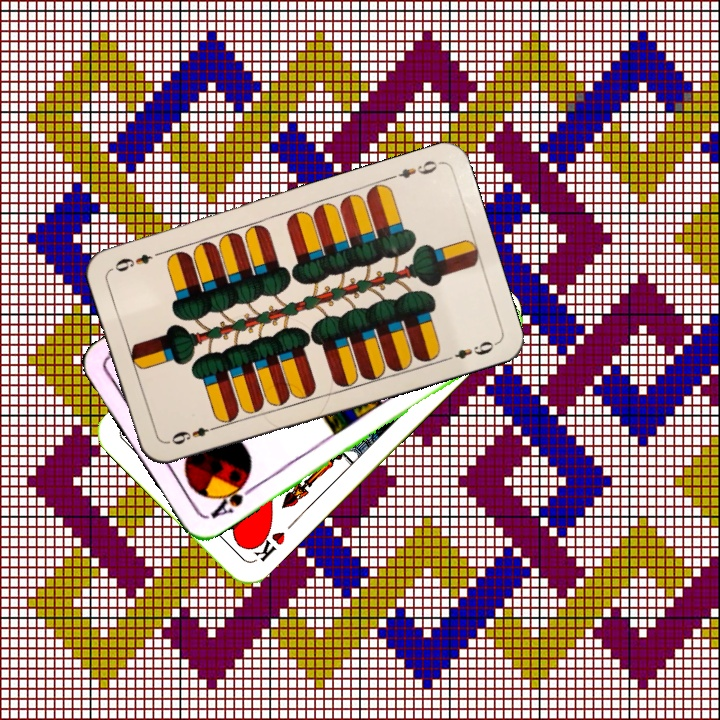E9: (163, 421, 221, 448), (385, 156, 443, 182)
HK: (245, 524, 288, 564)
SA: (206, 475, 257, 522)
